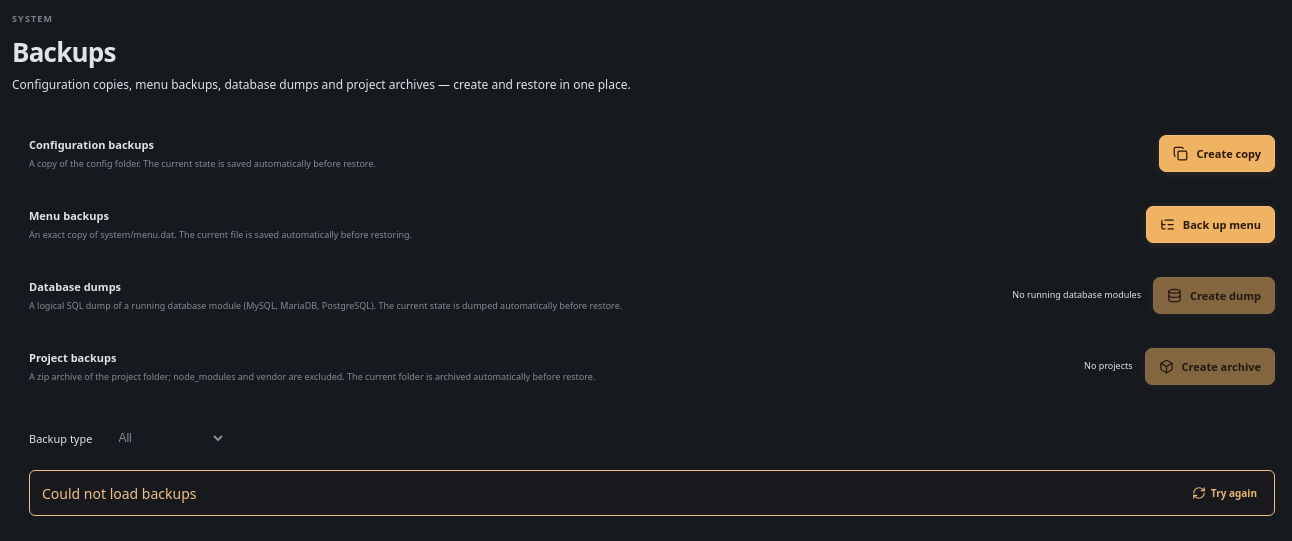
Test: Backups loading › shows a load error and clears it after a successful retry
Expected: the message shows "Could not load backups", [42,484,196,502]
Click the button "Try again".
click(1224, 493)  # box [1187,481,1262,505]
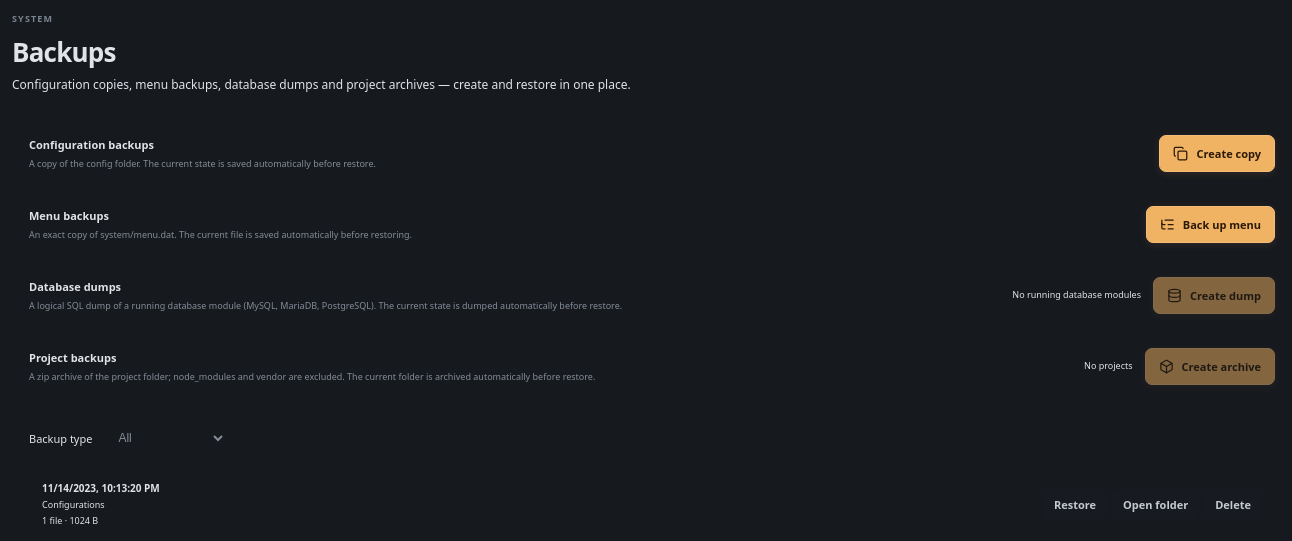
Expected: the text "Configurations" is shown, [42,498,105,511]
Expected: the message "Could not load backups Try again" is gone
